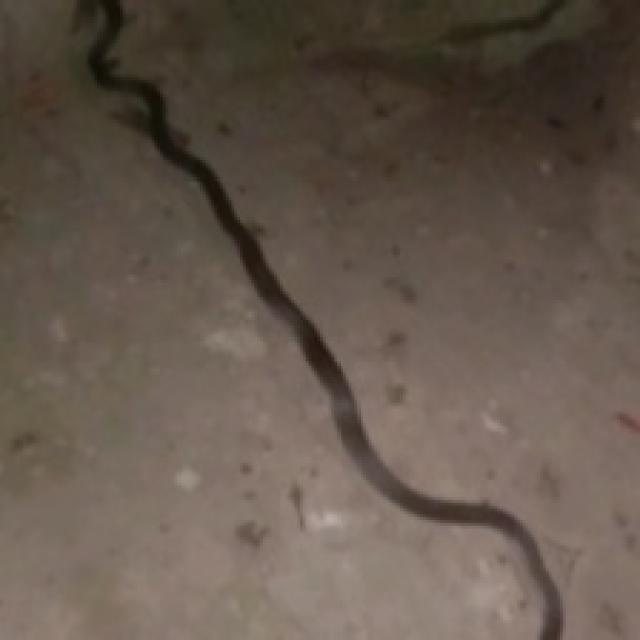king cobra: (89, 0, 560, 637)
